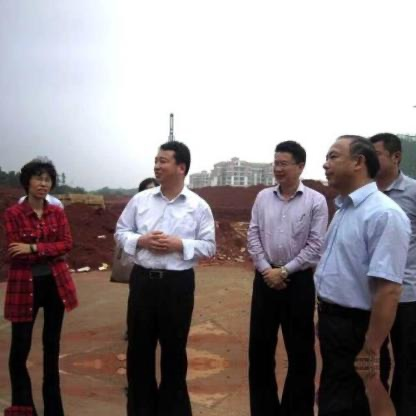No Safety Helmet: (323, 133, 384, 208), (148, 137, 197, 196), (20, 152, 60, 208), (270, 137, 306, 196), (369, 129, 405, 187)
